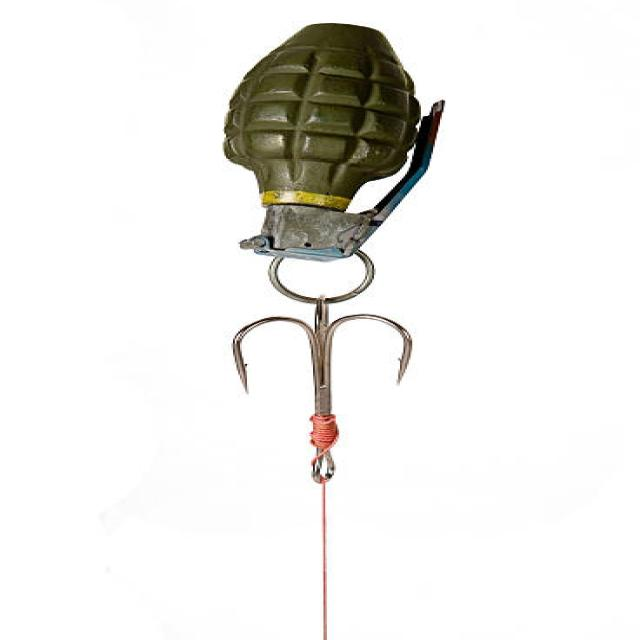grenade: (223, 15, 460, 310)
